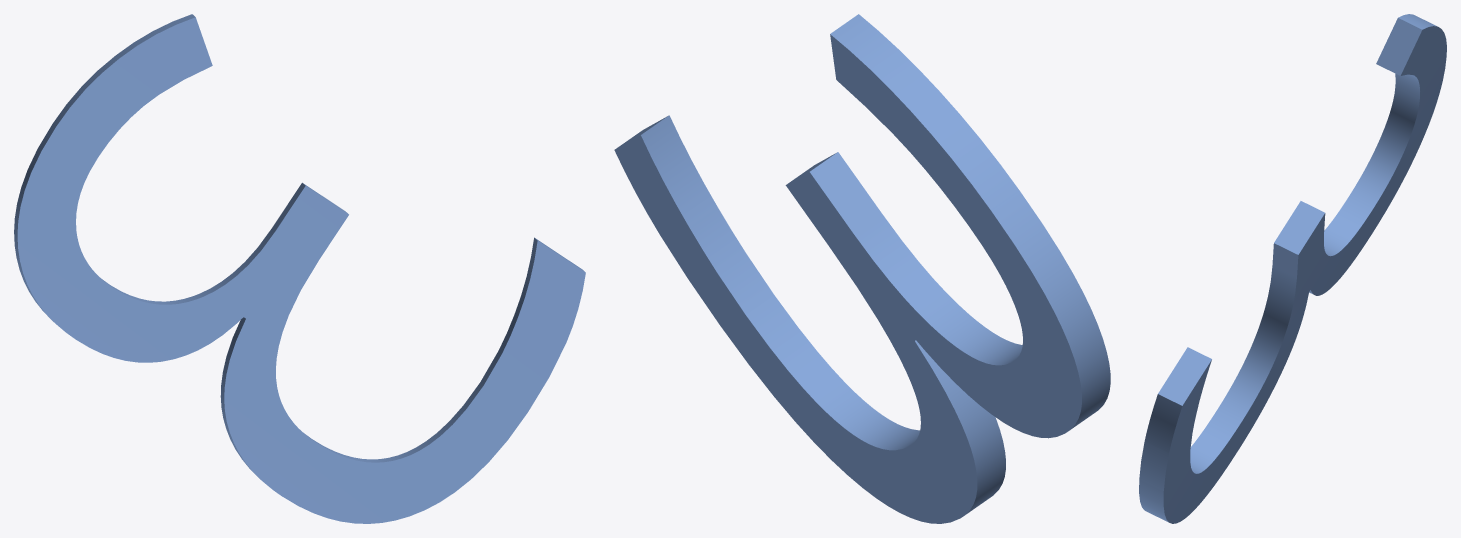
The model's file is New_Number_3.gltf.
3 views of the same model, side by side, from view 1: azimuth 30°, elevation 25°; view 2: azimuth 150°, elevation 25°; view 3: azimuth 270°, elevation 25° (orthographic). The views are drawn at different scales.
Parts seen in each view (by area): view 1: Part 516; view 2: Part 516; view 3: Part 516.
Boxes of the visible parts, x1,y1,x2,y2 form: Part 516: (14, 14, 585, 523); Part 516: (614, 14, 1110, 523); Part 516: (1139, 14, 1446, 523).
Size of the model in its own units: 0.00492 by 0.0046 by 0.00281.
